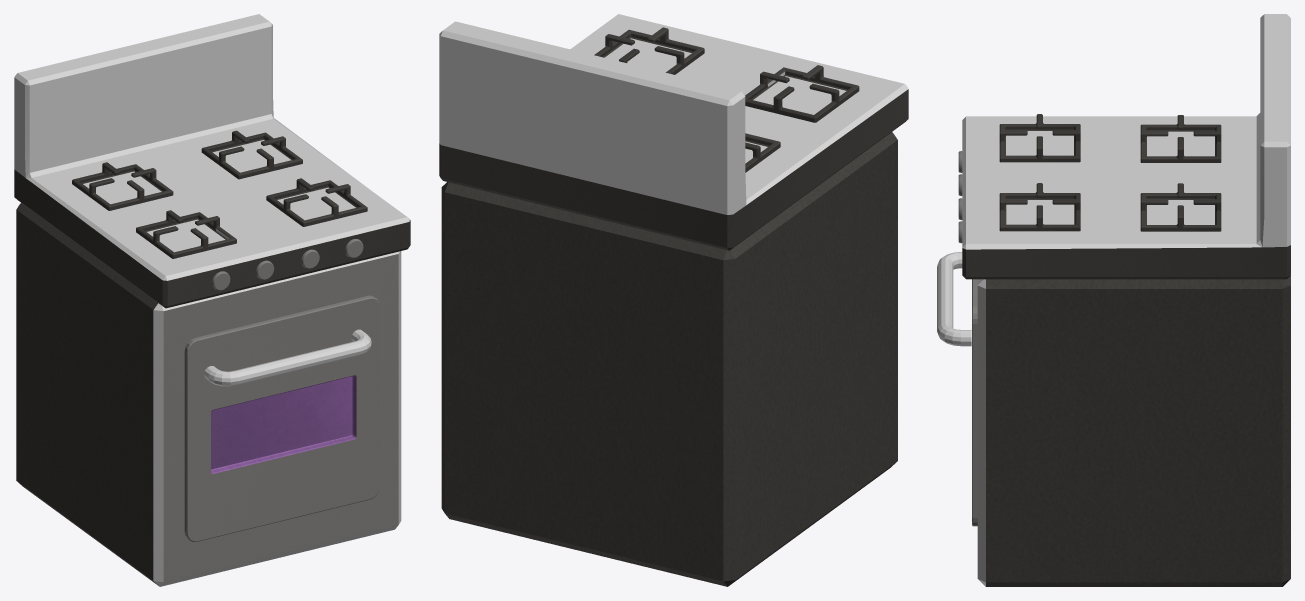
File: Estufa.obj
3 views of the same model, side by side, from view 1: azimuth 30°, elevation 25°; view 2: azimuth 150°, elevation 25°; view 3: azimuth 270°, elevation 25° (orthographic). The views are drawn at different scales.
Visible parts, largest first — view 1: Cube.021, Cube.022, Cube.023, Plane.006, Plane.005, Plane.007, Plane.009, Plane.004; view 2: Cube.021, Cube.022, Plane.009, Plane.005, Plane.006; view 3: Cube.021, Cube.022, Plane.009, Plane.005, Plane.007, Plane.006, Plane.004, Cube.023.
Boxes of the visible parts, bbox=[...] form: Cube.021: bbox=[16, 203, 401, 586]; Cube.022: bbox=[14, 14, 410, 308]; Cube.023: bbox=[184, 295, 379, 541]; Plane.006: bbox=[72, 162, 173, 210]; Plane.005: bbox=[266, 178, 367, 226]; Plane.007: bbox=[201, 130, 302, 179]; Plane.009: bbox=[136, 210, 236, 258]; Plane.004: bbox=[204, 329, 371, 386]; Cube.021: bbox=[441, 132, 897, 586]; Cube.022: bbox=[439, 14, 908, 250]; Plane.009: bbox=[745, 65, 859, 122]; Plane.005: bbox=[594, 27, 704, 74]; Plane.006: bbox=[745, 133, 780, 172]; Cube.021: bbox=[977, 275, 1290, 586]; Cube.022: bbox=[962, 14, 1290, 279]; Plane.009: bbox=[999, 114, 1080, 162]; Plane.005: bbox=[999, 183, 1080, 231]; Plane.007: bbox=[1140, 183, 1221, 231]; Plane.006: bbox=[1140, 115, 1221, 162]; Plane.004: bbox=[937, 252, 971, 346]; Cube.023: bbox=[972, 279, 977, 526].
Size of the model in its own units: 1.29 by 2.06 by 1.48.
5 materials, 5 textured.
